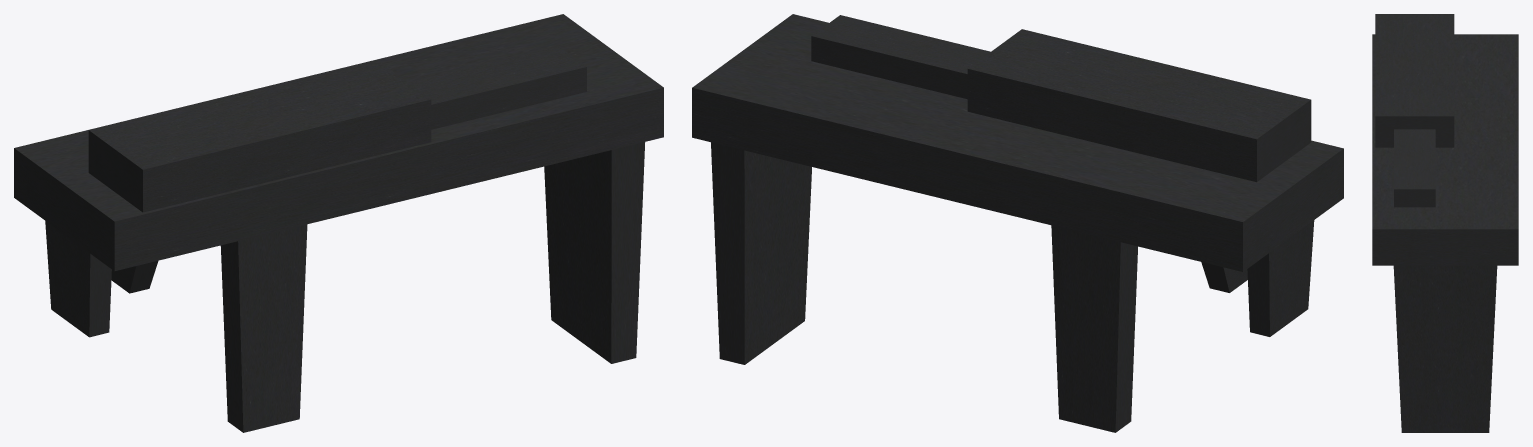
File: Follower.dae
3 views of the same model, side by side, from view 1: azimuth 30°, elevation 25°; view 2: azimuth 150°, elevation 25°; view 3: azimuth 270°, elevation 25° (orthographic). The views are drawn at different scales.
Visible parts, largest first — view 1: Follower; view 2: Follower; view 3: Follower.
Part boxes in pixels (box(x1,y1,x2,y2)): Follower: box(14, 14, 663, 432); Follower: box(692, 14, 1343, 432); Follower: box(1372, 14, 1518, 432).
Size of the model in its own units: 0.0575 by 0.0182 by 0.0326.
Materials: 1 (1 with a texture image).
